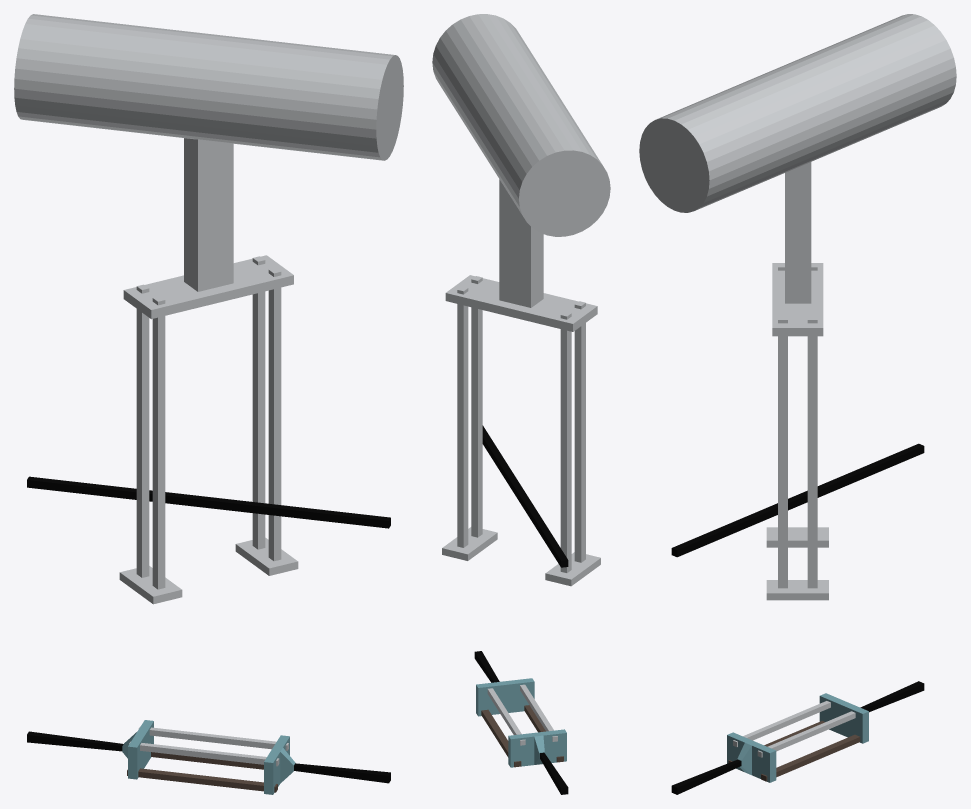
File: 45d_moretop_expand-rigid-l.obj
3 views of the same model, side by side, from view 1: azimuth 30°, elevation 25°; view 2: azimuth 150°, elevation 25°; view 3: azimuth 270°, elevation 25° (orthographic). The views are drawn at different scales.
Parts seen in each view (by area): view 1: moretop_1.001, moretop_1.007, moretop_1.003, moretop_1.005; view 2: moretop_1.001, moretop_1.007, moretop_1.003, moretop_1.004; view 3: moretop_1.001, moretop_1.007, moretop_1.003, moretop_1.004.
Boxes of the visible parts, x1,y1,x2,y2 form: moretop_1.001: (14, 14, 403, 794); moretop_1.007: (119, 138, 298, 604); moretop_1.003: (129, 726, 288, 766); moretop_1.005: (127, 768, 277, 792); moretop_1.001: (432, 14, 610, 794); moretop_1.007: (442, 179, 600, 586); moretop_1.003: (487, 684, 557, 745); moretop_1.004: (481, 709, 521, 767); moretop_1.001: (639, 14, 956, 794); moretop_1.007: (766, 162, 828, 600); moretop_1.003: (733, 701, 855, 757); moretop_1.004: (761, 734, 860, 781).
Size of the model in its own units: 1.27 by 3.03 by 1.27.
Materials: 4 (4 with a texture image).
